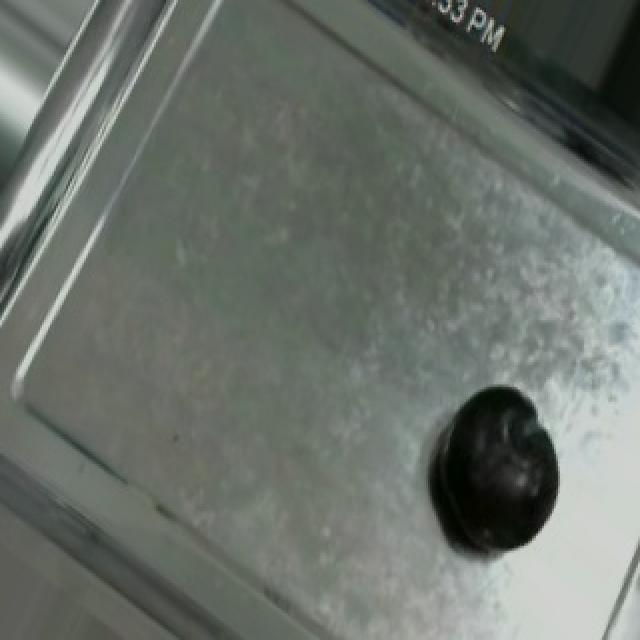Fruit: (410, 364, 580, 580), (586, 0, 640, 146)
